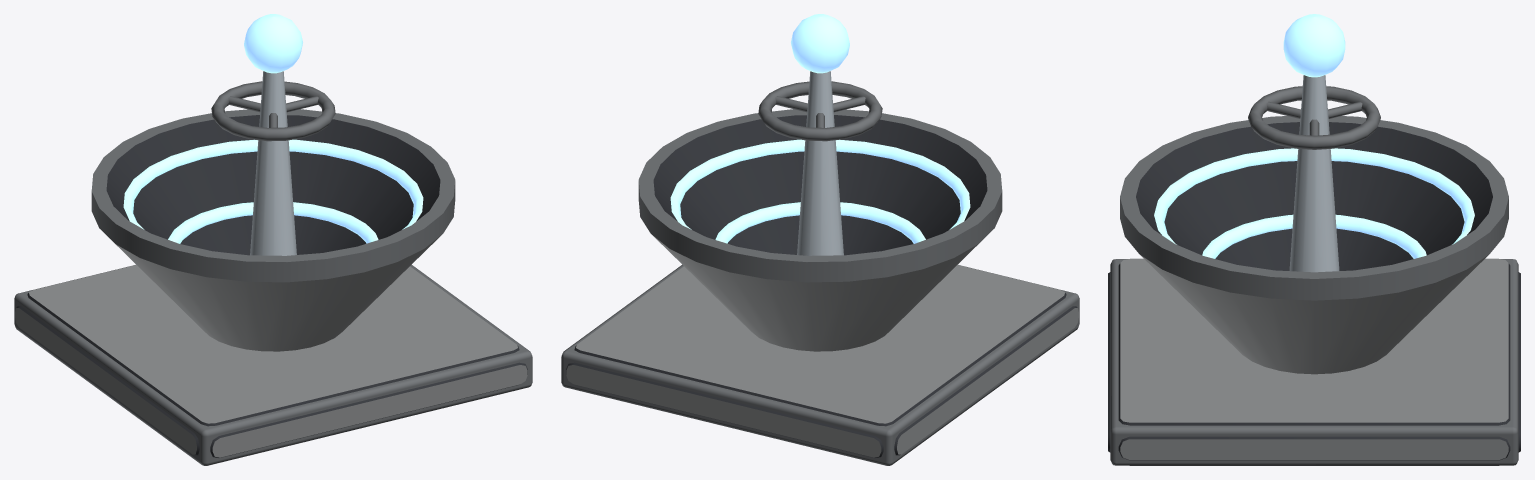
File: R4X_ScannerPulse.glb
3 views of the same model, side by side, from view 1: azimuth 30°, elevation 25°; view 2: azimuth 150°, elevation 25°; view 3: azimuth 270°, elevation 25° (orthographic). The views are drawn at different scales.
Parts seen in each view (by area): view 1: R4X_ScannerPulse_Body; view 2: R4X_ScannerPulse_Body; view 3: R4X_ScannerPulse_Body.
Part boxes in pixels (box(x1,y1,x2,y2)): R4X_ScannerPulse_Body: box(14, 14, 532, 465); R4X_ScannerPulse_Body: box(561, 14, 1079, 465); R4X_ScannerPulse_Body: box(1108, 14, 1520, 465).
Size of the model in its own units: 0.52 by 0.51 by 0.52.
